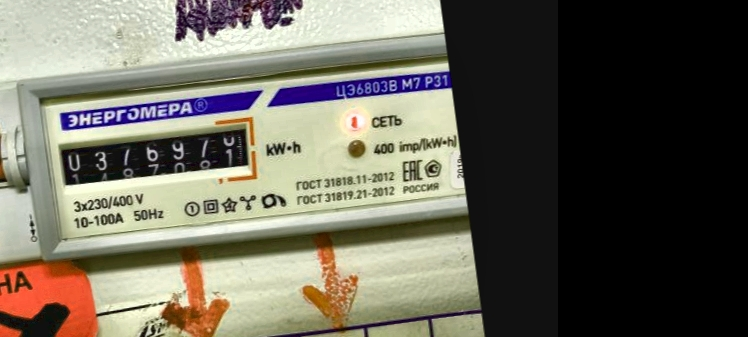0: (64, 149, 81, 173)
1: (222, 147, 236, 168)
3: (93, 149, 109, 172)
6: (143, 139, 161, 163)
7: (117, 143, 135, 169), (195, 135, 213, 159)
9: (169, 137, 186, 161)
screen: (48, 105, 265, 208)
